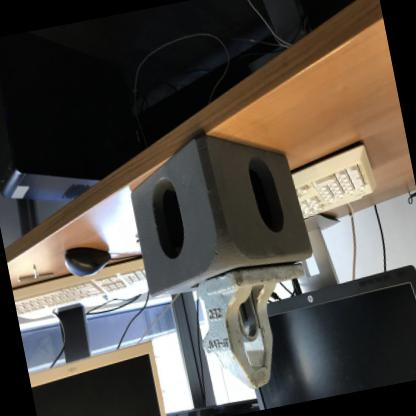CornerCasting: (119, 113, 318, 302)
Twistlock: (185, 255, 332, 400)
